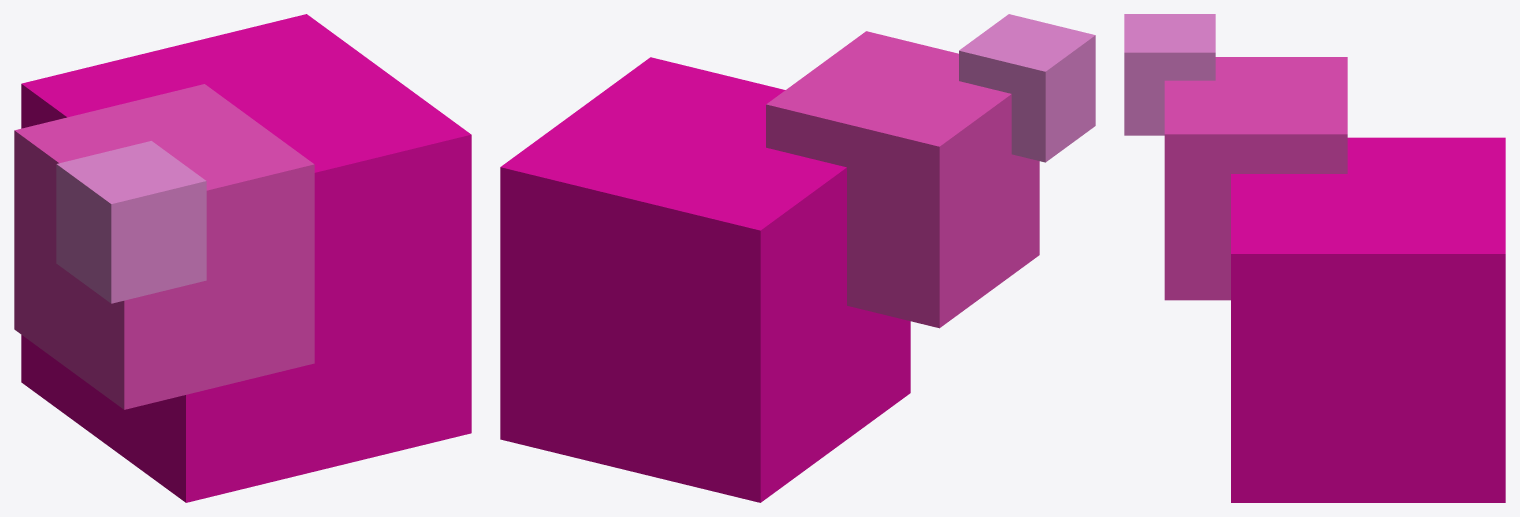
Rendered from décoration3D.glb.
3 views of the same model, side by side, from view 1: azimuth 30°, elevation 25°; view 2: azimuth 150°, elevation 25°; view 3: azimuth 270°, elevation 25° (orthographic). The views are drawn at different scales.
Parts seen in each view (by area): view 1: CubeArrière, Cube, Cube.001; view 2: CubeArrière, Cube, Cube.001; view 3: CubeArrière, Cube, Cube.001.
Boxes of the visible parts, bbox=[...] form: CubeArrière: bbox=[21, 14, 471, 502]; Cube: bbox=[14, 84, 314, 409]; Cube.001: bbox=[56, 141, 206, 303]; CubeArrière: bbox=[500, 57, 910, 502]; Cube: bbox=[766, 31, 1039, 328]; Cube.001: bbox=[959, 14, 1095, 162]; CubeArrière: bbox=[1231, 137, 1505, 502]; Cube: bbox=[1164, 57, 1347, 300]; Cube.001: bbox=[1124, 14, 1215, 135].
Size of the model in its own units: 4.46 by 3.81 by 4.17.
